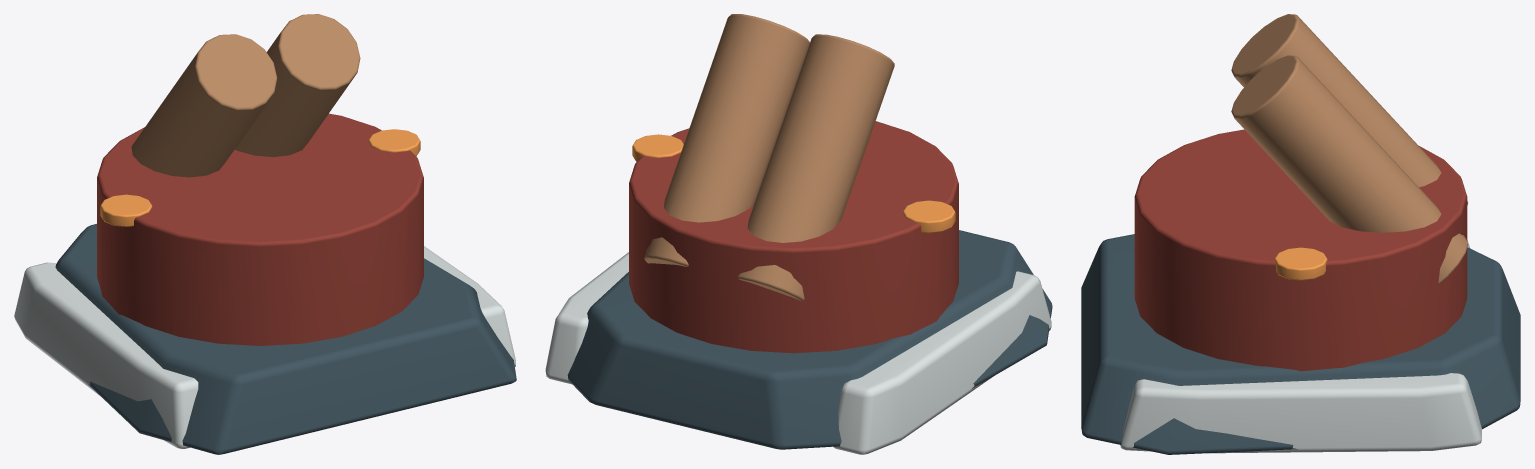
File: MortarBattery115.fbx
3 views of the same model, side by side, from view 1: azimuth 30°, elevation 25°; view 2: azimuth 150°, elevation 25°; view 3: azimuth 270°, elevation 25° (orthographic).
Visible parts, largest first — view 1: Traverse housing, Mortar foundation, Elevated mortar tube, Recoil anchor, Elevated mortar tube.001, Recoil anchor.001, Rangefinder lens, Rangefinder lens.001; view 2: Traverse housing, Mortar foundation, Elevated mortar tube, Elevated mortar tube.001, Recoil anchor, Recoil anchor.001, Rangefinder lens, Rangefinder lens.001; view 3: Traverse housing, Mortar foundation, Recoil anchor.001, Elevated mortar tube.001, Elevated mortar tube, Rangefinder lens.001.
Boxes of the visible parts, left/top/right/bottom form: Traverse housing: left=97, top=113, right=423, bottom=345; Mortar foundation: left=55, top=224, right=516, bottom=454; Elevated mortar tube: left=131, top=34, right=277, bottom=177; Recoil anchor: left=14, top=262, right=198, bottom=449; Elevated mortar tube.001: left=235, top=14, right=360, bottom=157; Recoil anchor.001: left=424, top=246, right=515, bottom=366; Rangefinder lens: left=100, top=194, right=152, bottom=226; Rangefinder lens.001: left=368, top=129, right=420, bottom=156; Traverse housing: left=629, top=121, right=958, bottom=353; Mortar foundation: left=567, top=230, right=1052, bottom=449; Elevated mortar tube: left=737, top=34, right=894, bottom=300; Elevated mortar tube.001: left=644, top=14, right=809, bottom=266; Recoil anchor: left=833, top=271, right=1051, bottom=454; Recoil anchor.001: left=545, top=252, right=628, bottom=384; Rangefinder lens: left=902, top=200, right=955, bottom=233; Rangefinder lens.001: left=632, top=134, right=683, bottom=161; Traverse housing: left=1134, top=129, right=1467, bottom=371; Mortar foundation: left=1081, top=234, right=1520, bottom=454; Recoil anchor.001: left=1120, top=373, right=1481, bottom=453; Elevated mortar tube.001: left=1231, top=55, right=1468, bottom=283; Elevated mortar tube: left=1231, top=14, right=1467, bottom=205; Rangefinder lens.001: left=1274, top=247, right=1327, bottom=280.
Size of the model in its own units: 197 by 163 by 198.
